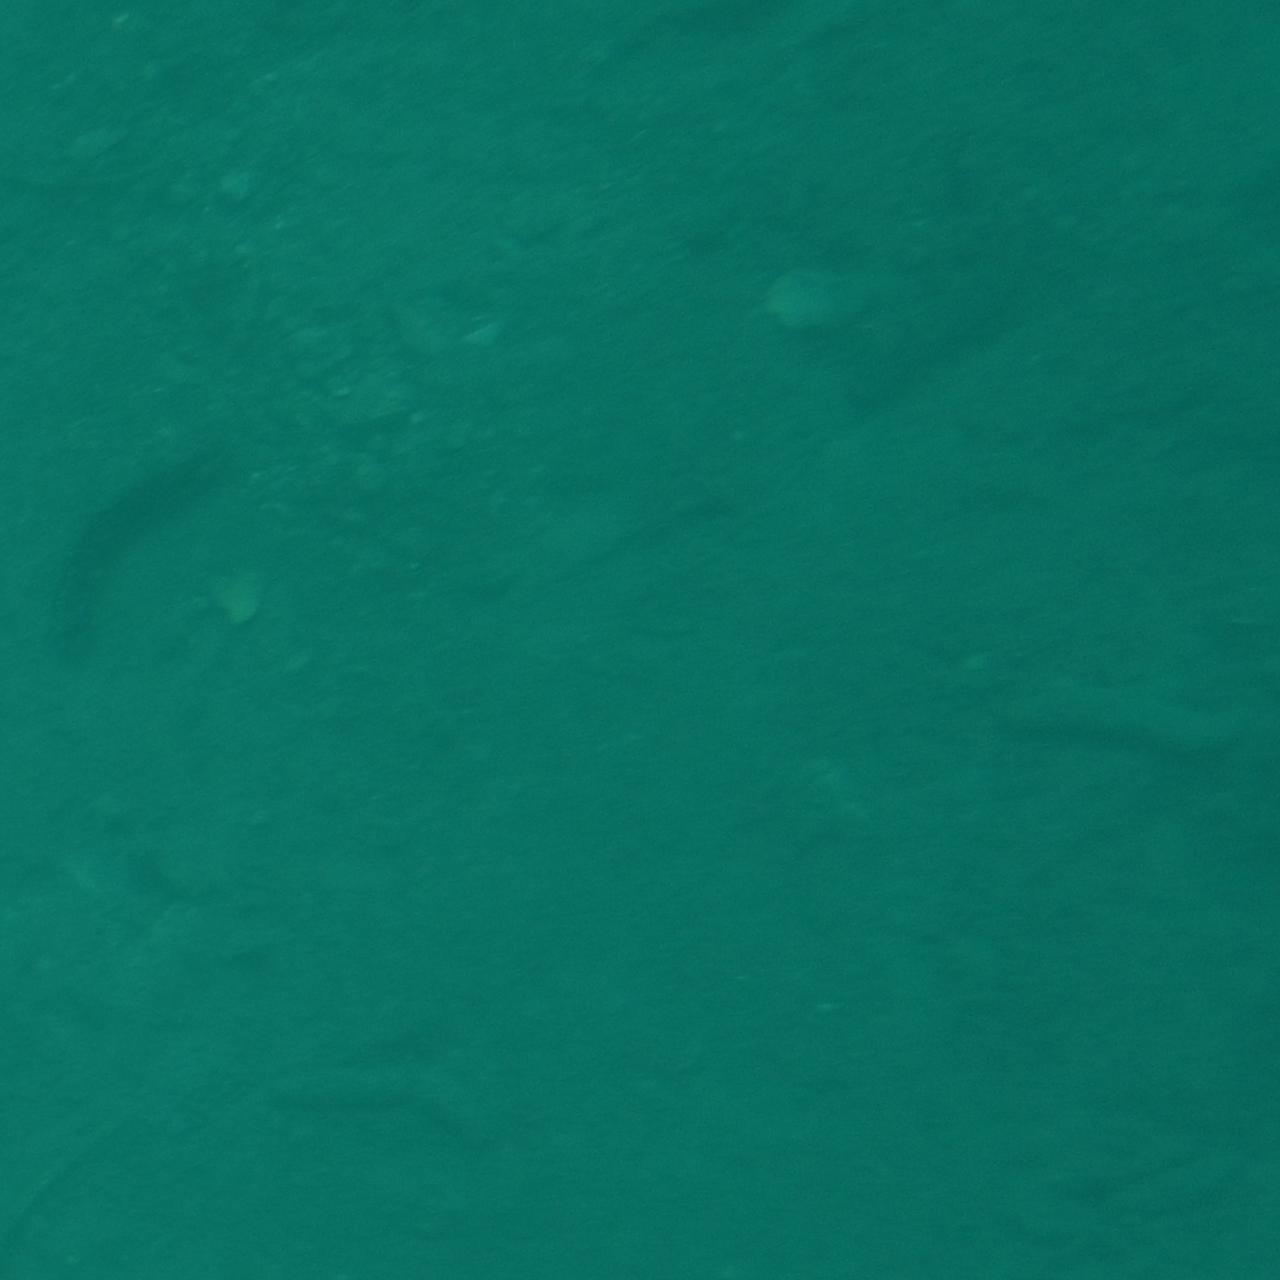Holothuria tubulosa: (50, 443, 248, 688), (988, 647, 1276, 785)
